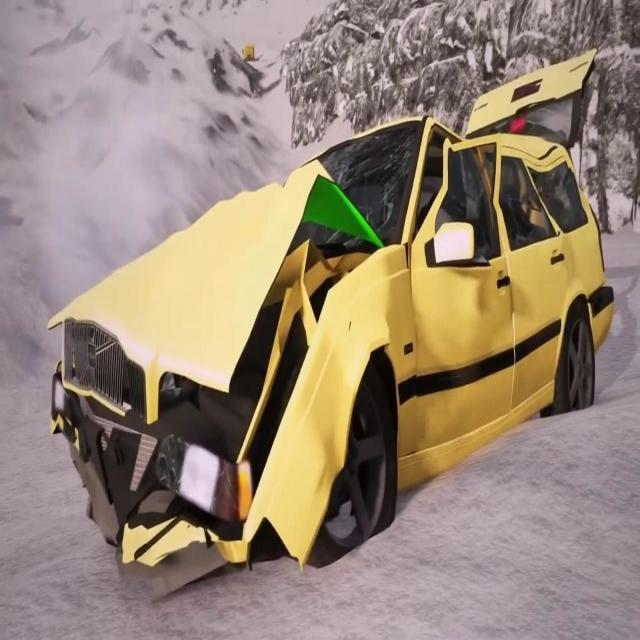vehicle: (18, 0, 640, 602)
